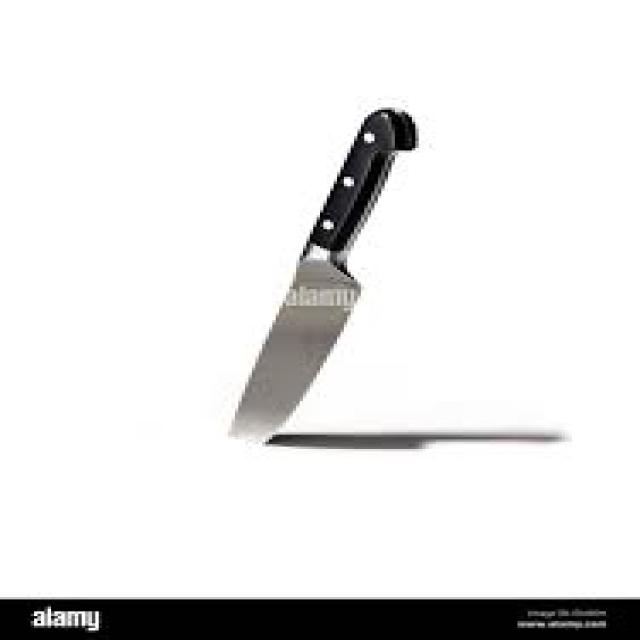Knife: (224, 105, 418, 442)
